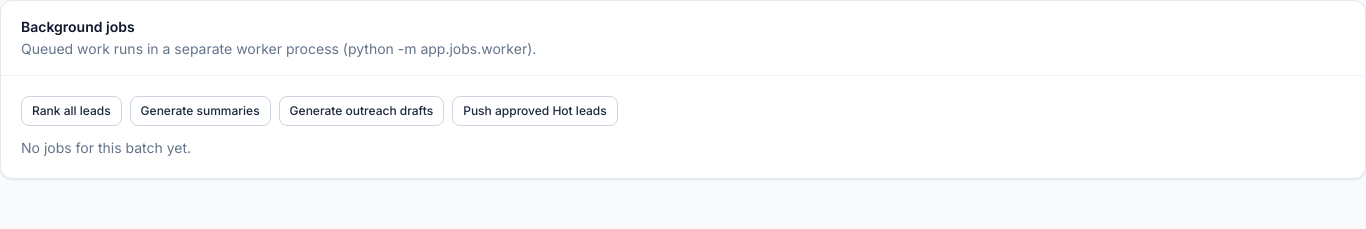
Test: JobsPanel › queues a job and reports a deduplicated request honestly
This screenshot has width=1366, height=229.
Expected: the text "No jobs for this batch yet." is shown, x1=21 y1=139 x2=191 y2=156
Click the button "Rank all leads" at [71, 111], box x1=21 y1=96 x2=122 y2=126
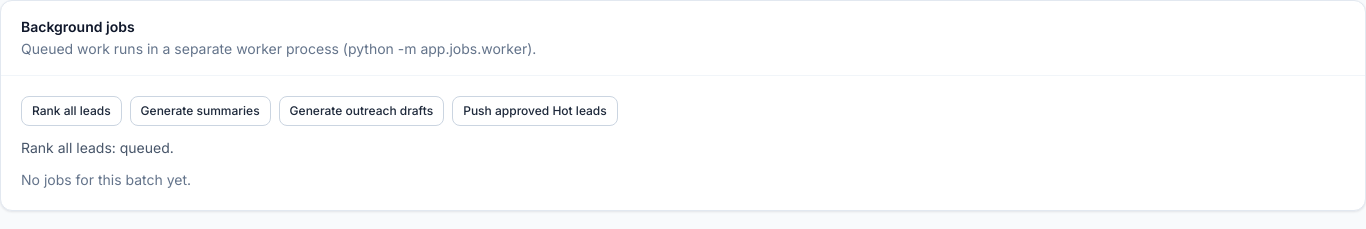
Expected: the message reads "Rank all leads: queued.", x1=21 y1=139 x2=174 y2=156
Click the button "Rank all leads" at [71, 111], box x1=21 y1=96 x2=122 y2=126
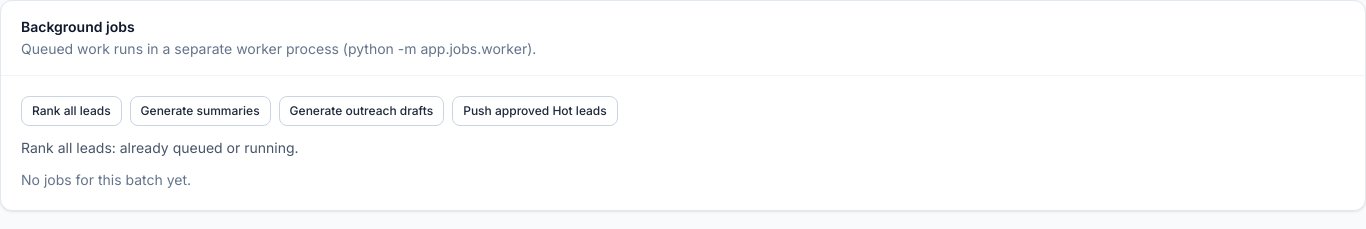
Expected: the message shows "already queued or running", x1=21 y1=139 x2=299 y2=156
